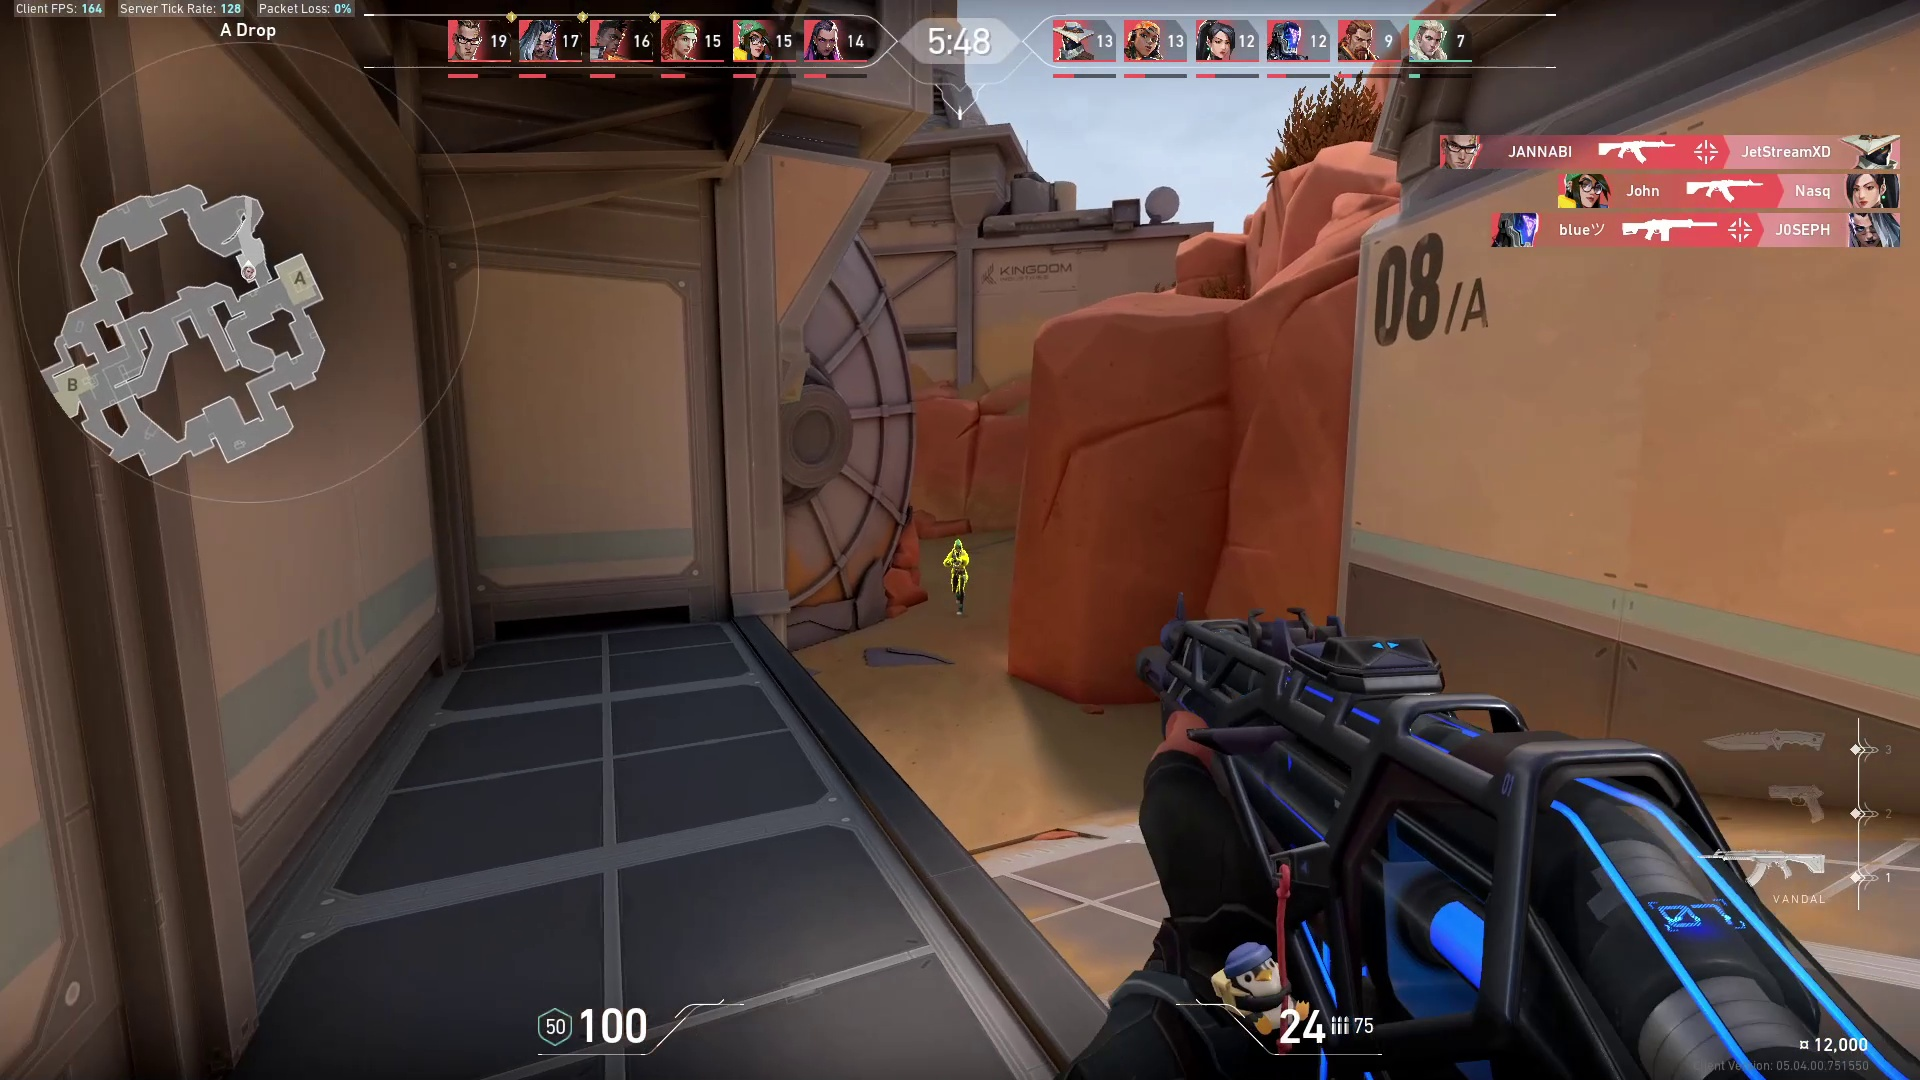enemy_body: (941, 551, 979, 618)
enemy_head: (950, 536, 965, 555)
